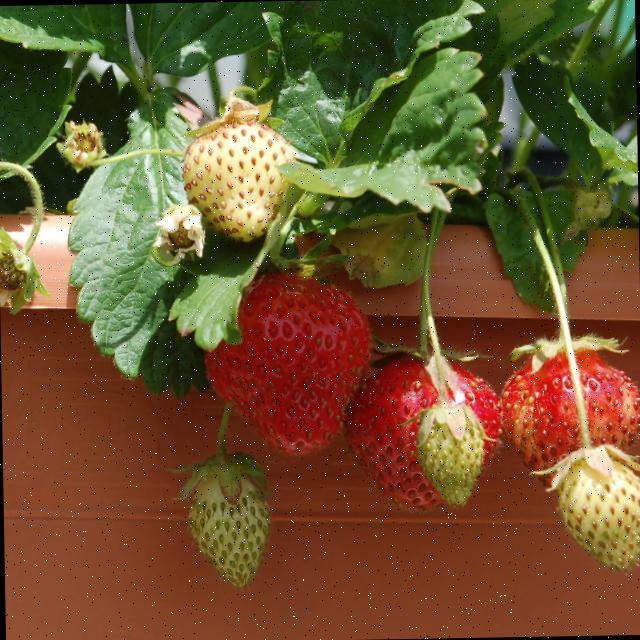Ripe Strawberry: (204, 272, 380, 460), (342, 334, 504, 516), (498, 337, 640, 489)
